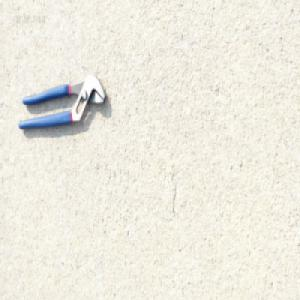Pliers: (15, 73, 106, 131)
